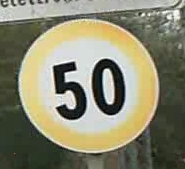limite 50: (17, 19, 160, 154)
